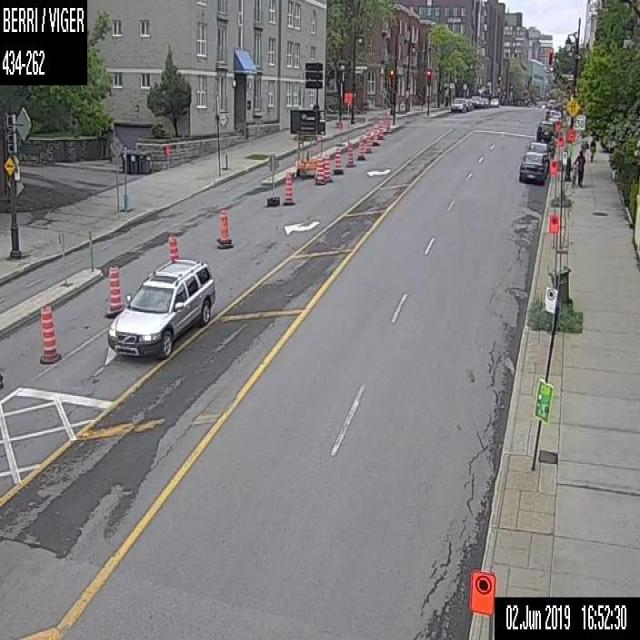construction: (39, 303, 62, 365), (469, 569, 496, 615), (104, 257, 125, 316), (215, 208, 232, 247), (281, 169, 293, 204), (166, 233, 179, 260), (342, 91, 352, 125), (332, 145, 341, 174), (314, 157, 323, 186), (323, 152, 332, 180), (547, 212, 559, 233), (550, 158, 558, 174), (358, 136, 363, 160), (378, 118, 384, 138), (373, 123, 379, 143), (364, 129, 369, 152), (347, 142, 352, 165), (557, 134, 564, 146)
pedestrian: (570, 151, 585, 185), (579, 136, 588, 162), (587, 136, 596, 162)
vehicle: (106, 256, 216, 357), (517, 150, 549, 182), (535, 119, 556, 143), (450, 97, 467, 111), (470, 95, 480, 106), (489, 96, 499, 106)
